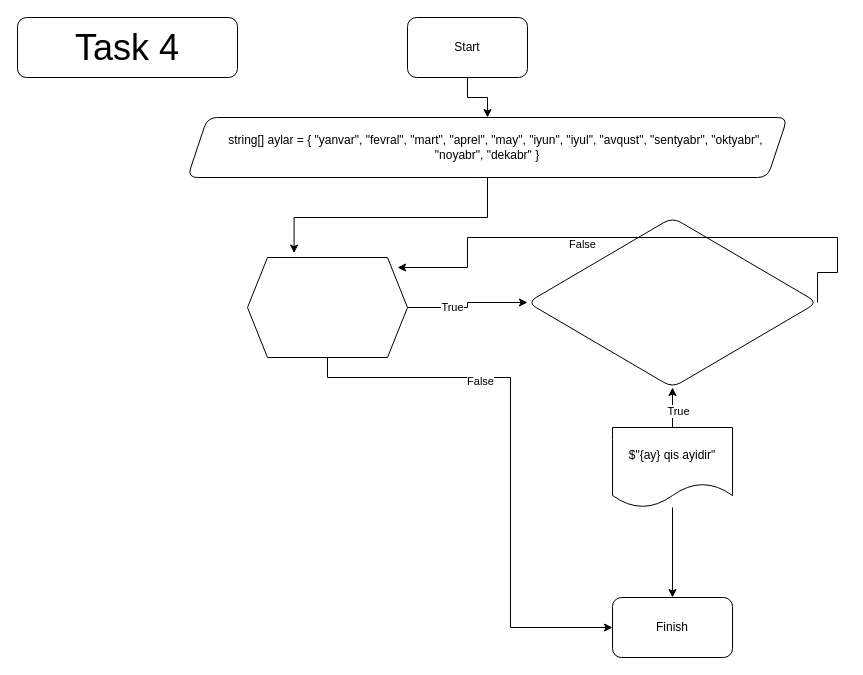
Some shapes in this 863 by 675 pixel diagram are drawn without their labels. The box of each missing label's shape, as (x1, y1, x2, y2) in pixels:
foreach (string ay in aylar): (246, 256, 408, 358)
if (ay == "yanvar" || ay == "fevral" || ay == "dekabr"): (526, 216, 818, 388)
